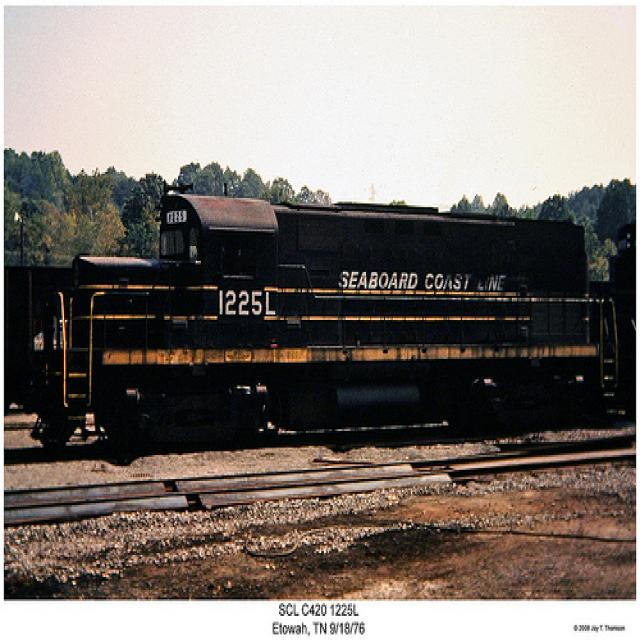locomotive: (31, 172, 611, 468)
